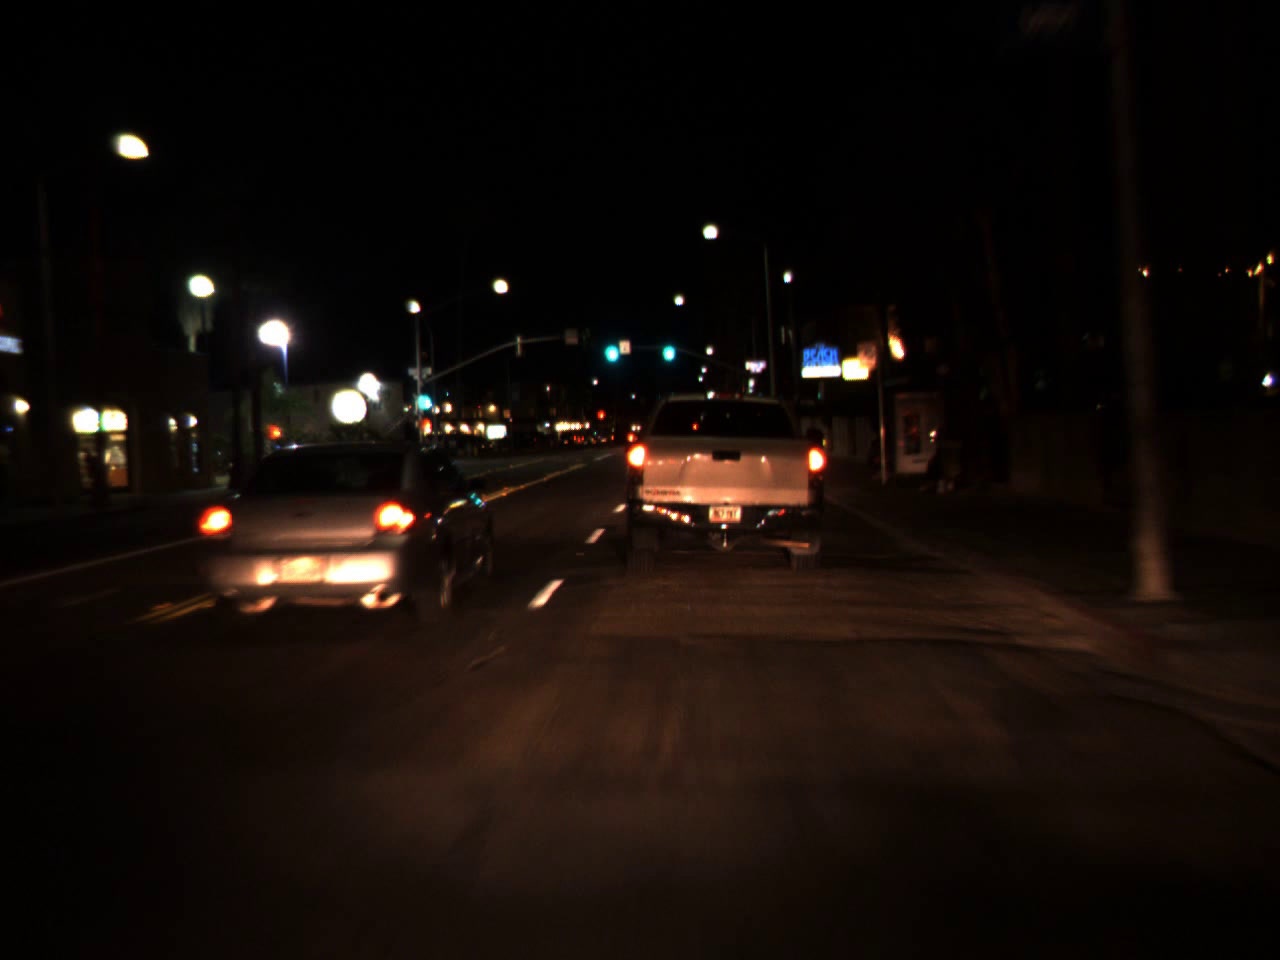go: (600, 323, 621, 368), (412, 376, 433, 415), (659, 327, 677, 366)
